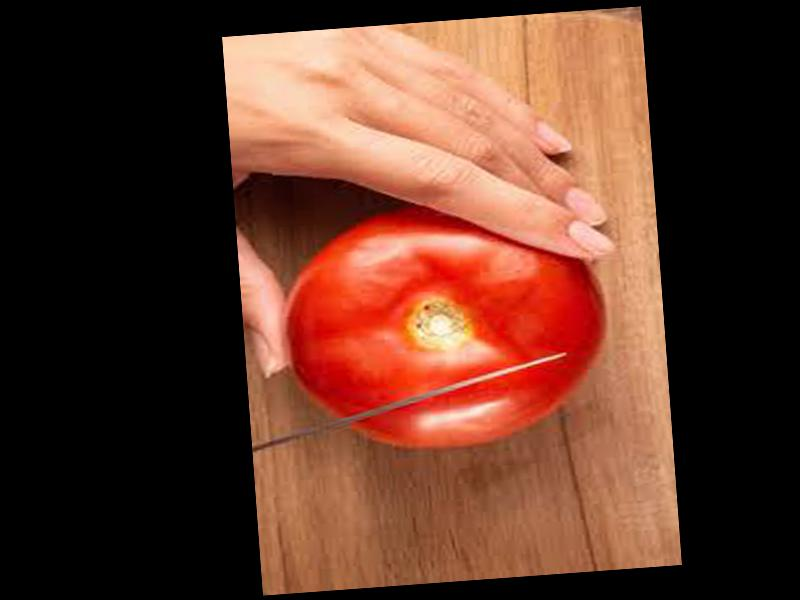Tomato: (279, 191, 611, 453)
